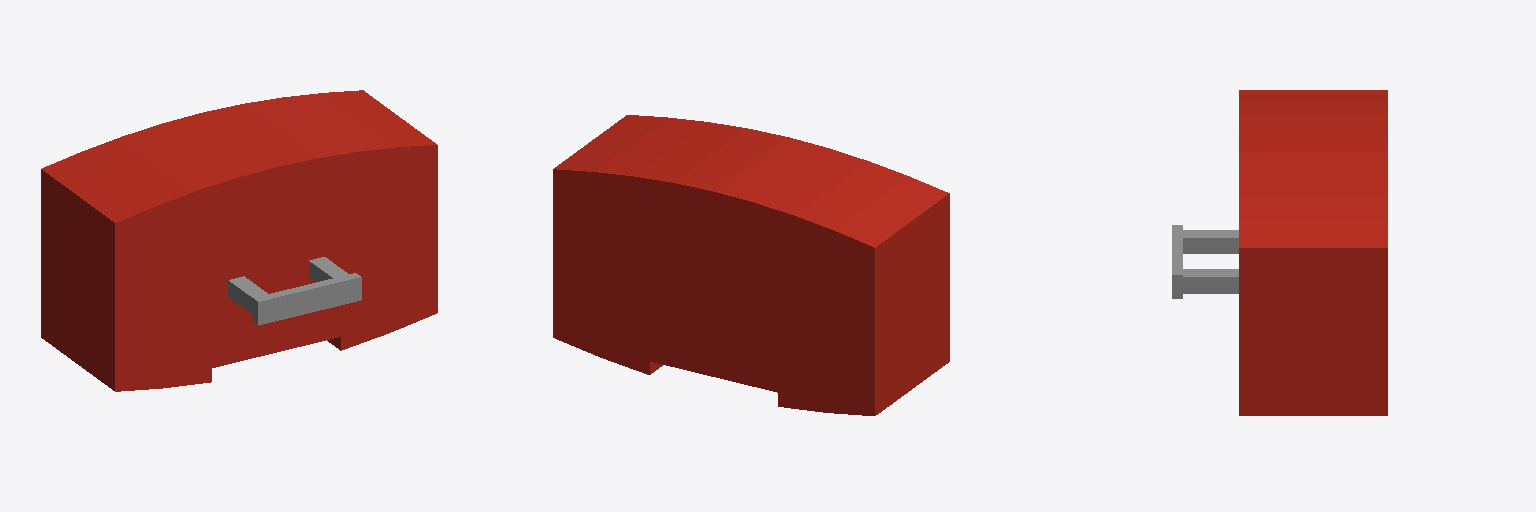
File: Boombox.obj
3 views of the same model, side by side, from view 1: azimuth 30°, elevation 25°; view 2: azimuth 150°, elevation 25°; view 3: azimuth 270°, elevation 25° (orthographic).
Parts seen in each view (by area): view 1: Body1; view 2: Body1; view 3: Body1.
Boxes of the visible parts, x1,y1,x2,y2 form: Body1: [41, 90, 437, 391]; Body1: [553, 115, 949, 415]; Body1: [1172, 90, 1387, 415].
Bounding box in the file's own units: 10 × 6.16 × 5.8.